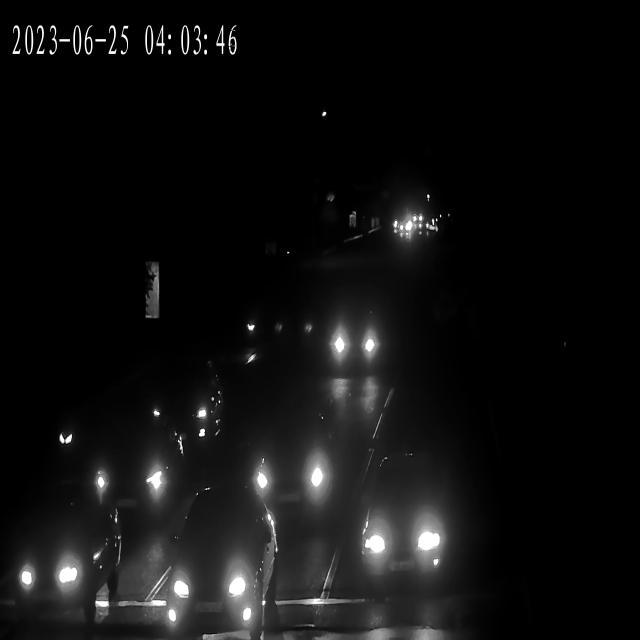Car: (156, 496, 280, 633), (1, 502, 123, 632), (344, 477, 454, 596), (70, 427, 181, 525), (234, 419, 340, 516), (138, 367, 228, 447), (323, 306, 387, 376), (235, 300, 291, 350), (391, 221, 412, 237), (391, 224, 412, 240)
